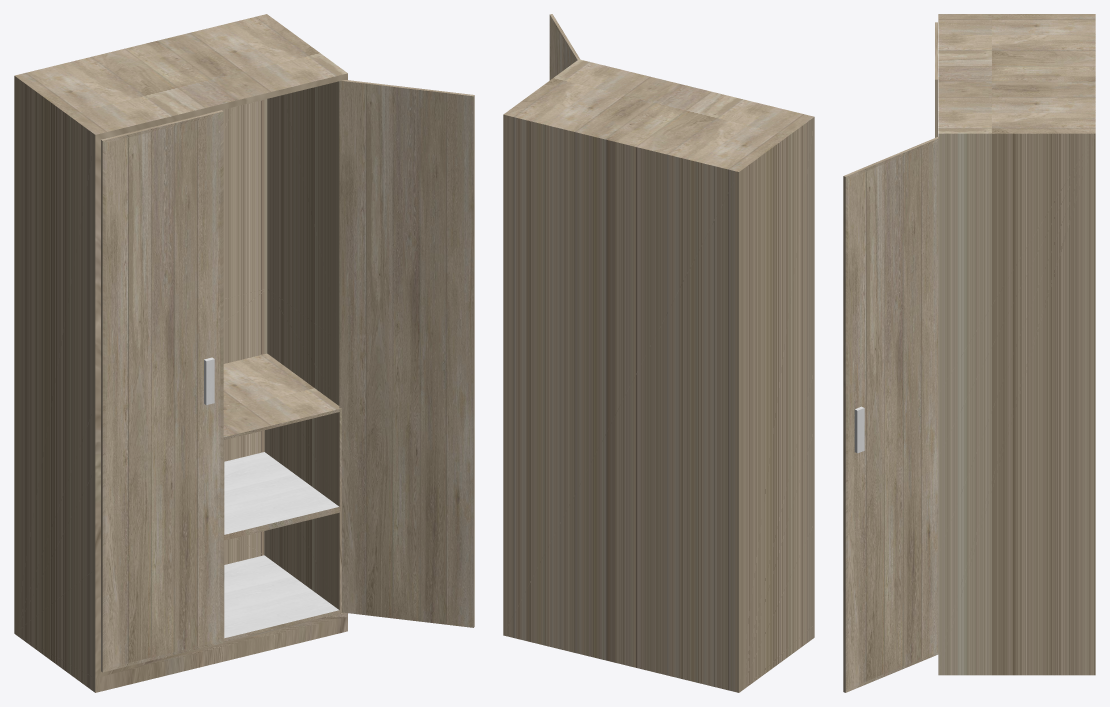
3 views of the same model, side by side, from view 1: azimuth 30°, elevation 25°; view 2: azimuth 150°, elevation 25°; view 3: azimuth 270°, elevation 25° (orthographic). The views are drawn at different scales.
Parts seen in each view (by area): view 1: Box087, Box089, Box088; view 2: Box087, Box089; view 3: Box087, Box089, Box091.
Boxes of the visible parts, left/top/right/bottom form: Box087: left=14, top=14, right=347, bottom=692; Box089: left=339, top=80, right=474, bottom=627; Box088: left=101, top=110, right=223, bottom=672; Box087: left=503, top=59, right=814, bottom=692; Box089: left=549, top=14, right=580, bottom=80; Box087: left=938, top=14, right=1095, bottom=675; Box089: left=843, top=137, right=938, bottom=692; Box091: left=854, top=406, right=864, bottom=453.
Size of the model in its own units: 118 by 190 by 80.14.
2 materials, 2 textured.
